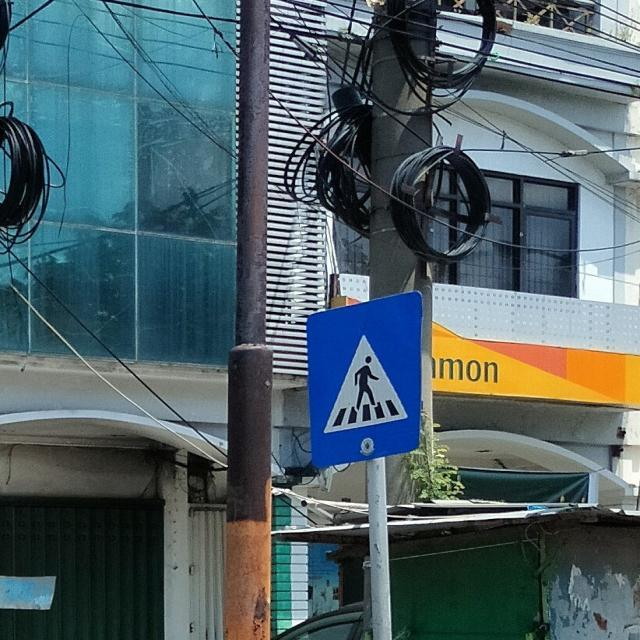Perintah Jalur Penyebrangan: (307, 290, 423, 464)
